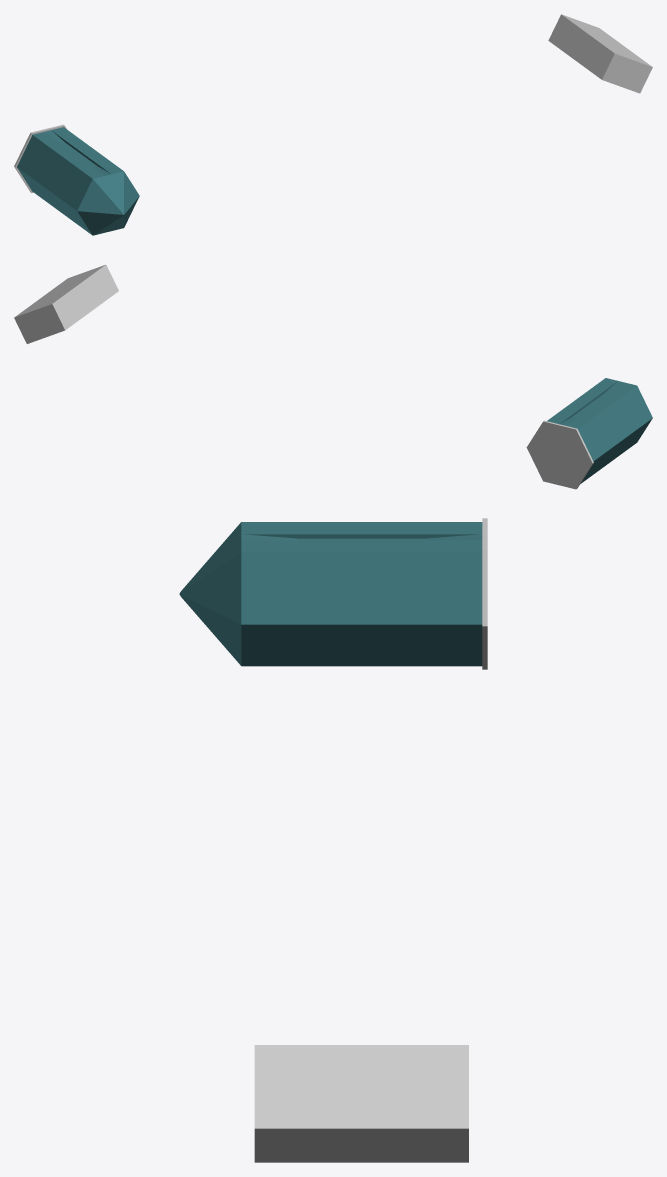
Rendered from tracked_object.obj.
3 renders of one model, top to bottom at view 1: azimuth 30°, elevation 25°; view 2: azimuth 150°, elevation 25°; view 3: azimuth 270°, elevation 25°, orthographic. The views are drawn at different scales.
Parts seen in each view (by area): view 1: Cylinder_Cylinder.002, Cube_Cube.002; view 2: Cylinder_Cylinder.002, Cube_Cube.002, Cylinder.001_Cylinder; view 3: Cylinder_Cylinder.002, Cube_Cube.002, Cylinder.001_Cylinder.
Part boxes in pixels (x1,y1,x2,y2): Cylinder_Cylinder.002: (17,127,139,235); Cube_Cube.002: (548,14,652,93); Cylinder_Cylinder.002: (547,378,652,483); Cube_Cube.002: (14,264,118,343); Cylinder.001_Cylinder: (526,420,593,489); Cylinder_Cylinder.002: (179,522,482,666); Cube_Cube.002: (254,1045,468,1162); Cylinder.001_Cylinder: (482,518,487,669).
Size of the model in its own units: 55.59 by 5.46 by 12.77.
